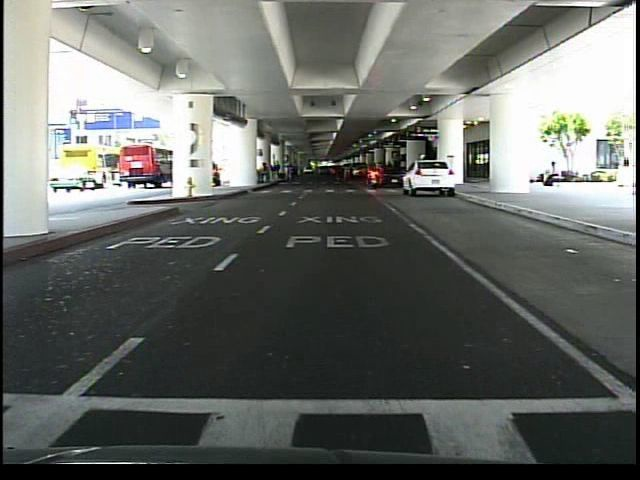person: (536, 156, 564, 193)
